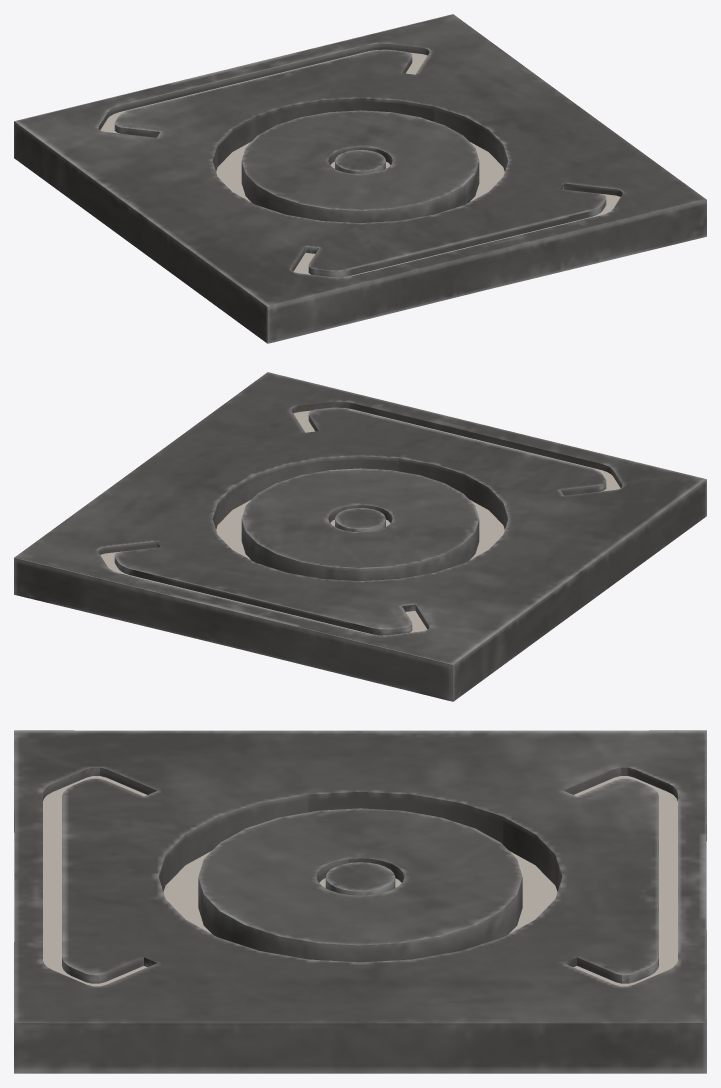
Rendered from FUT0510029.fbx.
3 renders of one model, top to bottom at view 1: azimuth 30°, elevation 25°; view 2: azimuth 150°, elevation 25°; view 3: azimuth 270°, elevation 25°, orthographic. The views are drawn at different scales.
Visible parts, largest first — view 1: smFUT0510029; view 2: smFUT0510029; view 3: smFUT0510029.
Part boxes in pixels (left/top/right/bottom): smFUT0510029: left=14, top=14, right=706, bottom=343; smFUT0510029: left=14, top=372, right=706, bottom=701; smFUT0510029: left=14, top=730, right=706, bottom=1073.
Size of the model in its own units: 168 by 13.49 by 168.
Materials: 1 (1 with a texture image).
